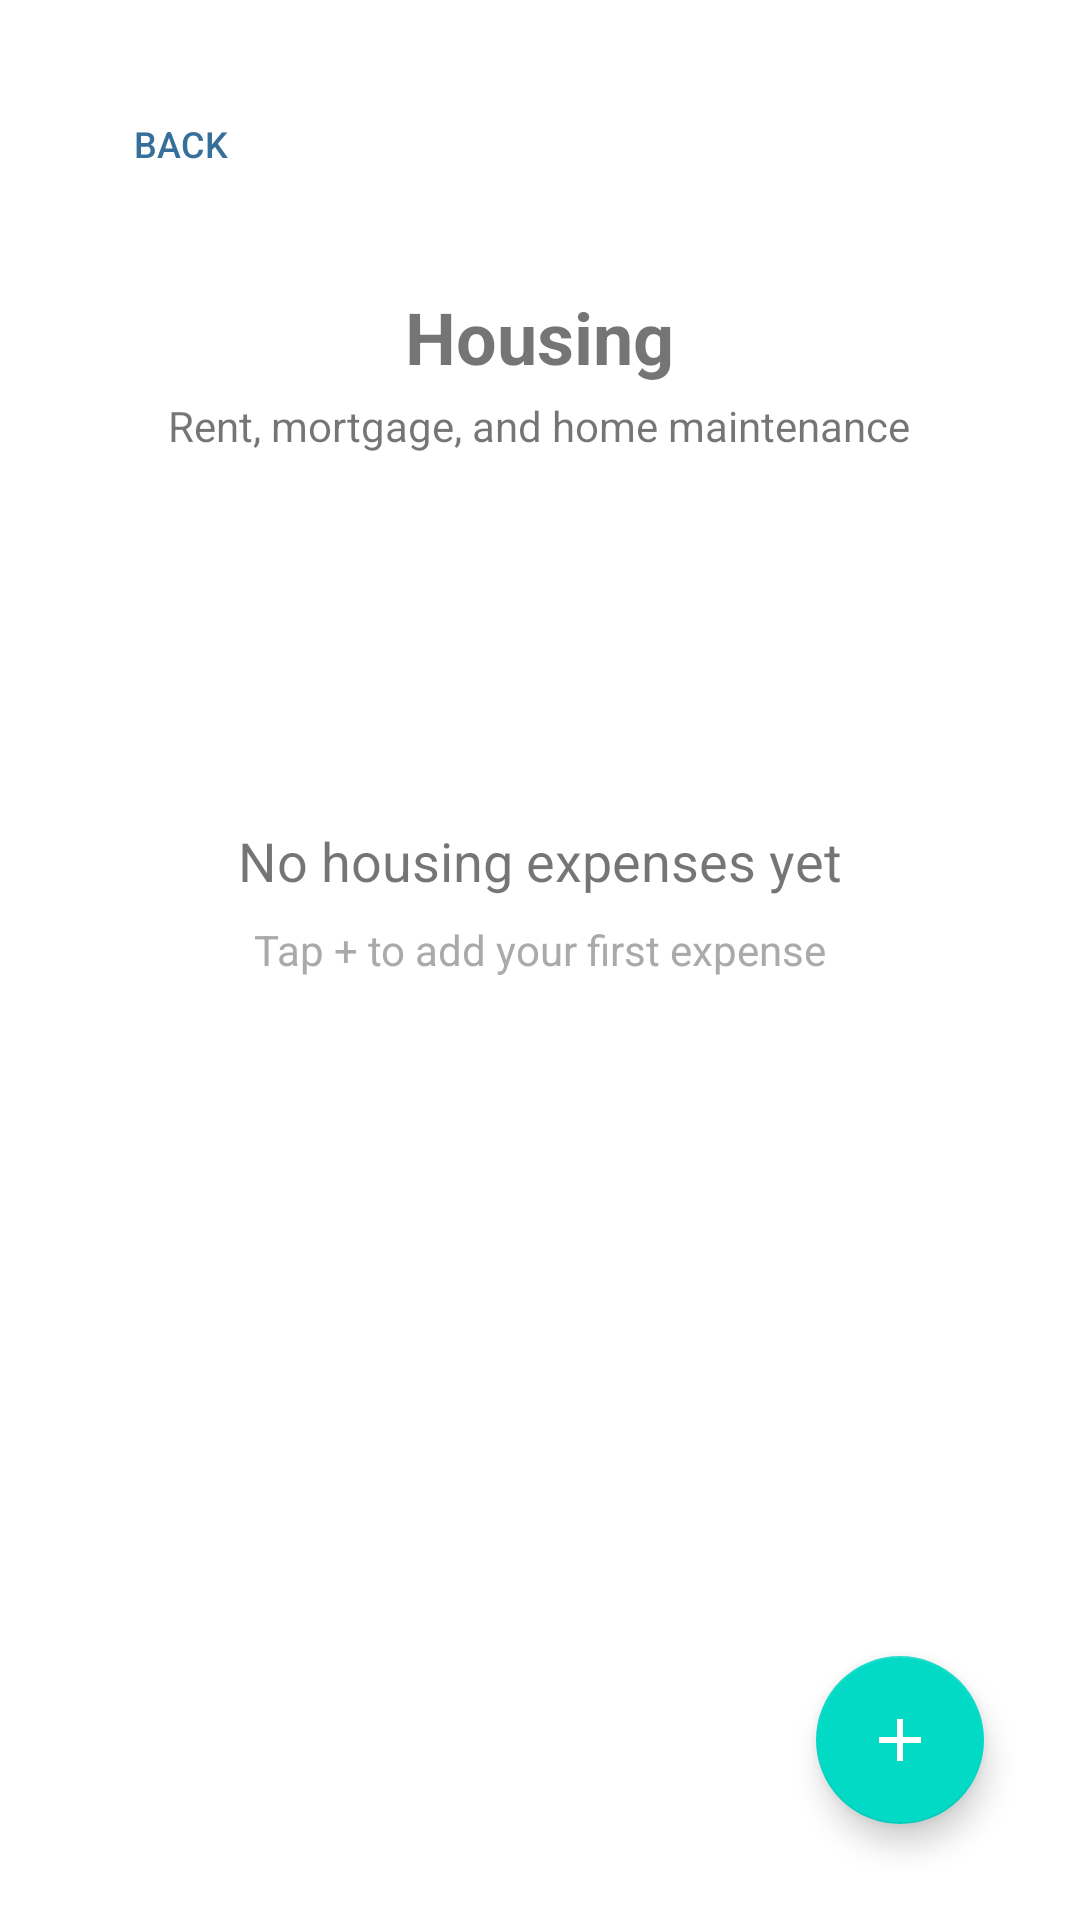

Icons on this 1080w x 1920h Android screen, each with its box as BBox(x1, y1, x2, y2):
Add expense: BBox(816, 1656, 984, 1824)
